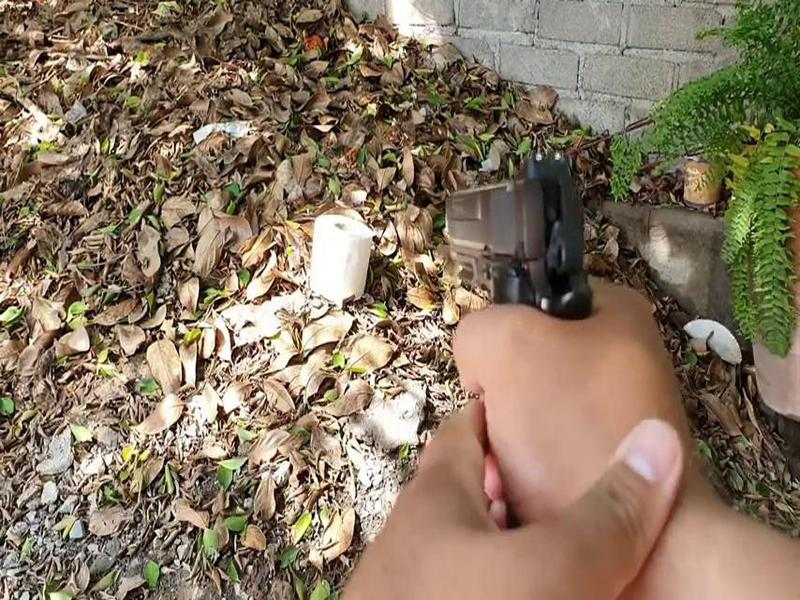Pistola: (434, 124, 608, 376)
